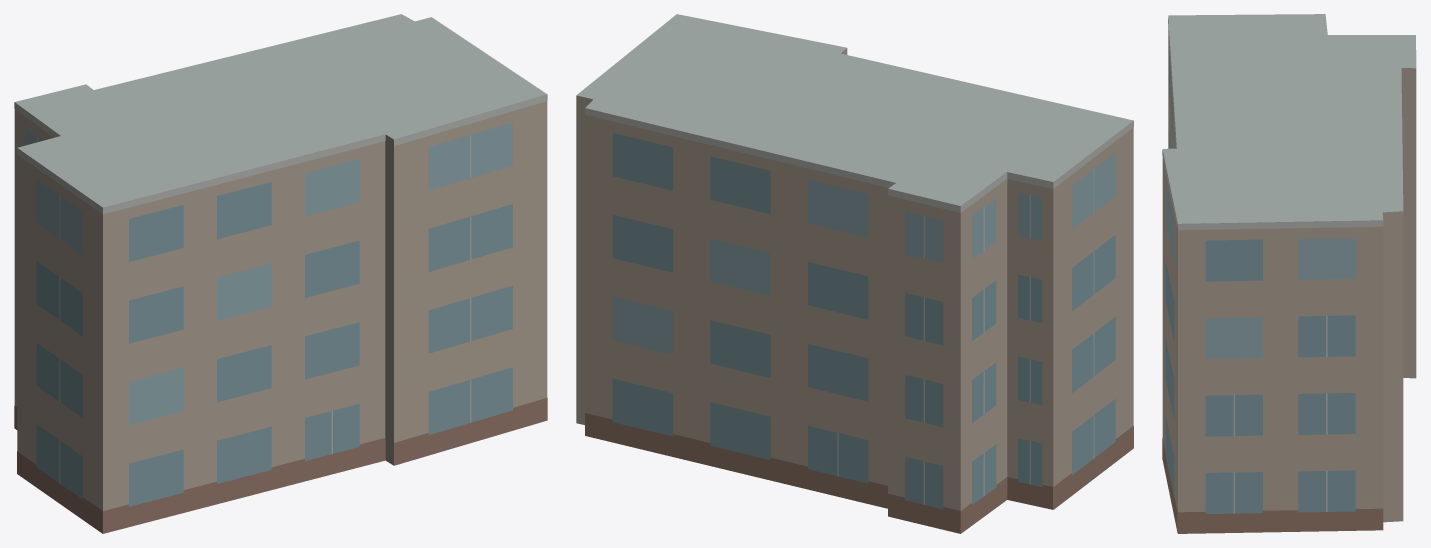
The model's file is survey-upis-32486902.glb.
The picture shows the model from 3 angles, left to right: view 1: azimuth 30°, elevation 25°; view 2: azimuth 150°, elevation 25°; view 3: azimuth 270°, elevation 25°; orthographic projection. The views are drawn at different scales.
Parts seen in each view (by area): view 1: survey-upis-32486902.tmp; view 2: survey-upis-32486902.tmp; view 3: survey-upis-32486902.tmp.
Boxes of the visible parts, x1=… form: survey-upis-32486902.tmp: x1=14, y1=14, x2=547, y2=533; survey-upis-32486902.tmp: x1=576, y1=14, x2=1133, y2=533; survey-upis-32486902.tmp: x1=1162, y1=14, x2=1416, y2=533.
Size of the model in its own units: 17.14 by 11.8 by 8.77.
